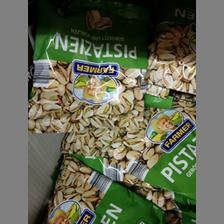Nuss: (29, 4, 146, 130), (74, 104, 194, 196), (40, 155, 164, 223)
